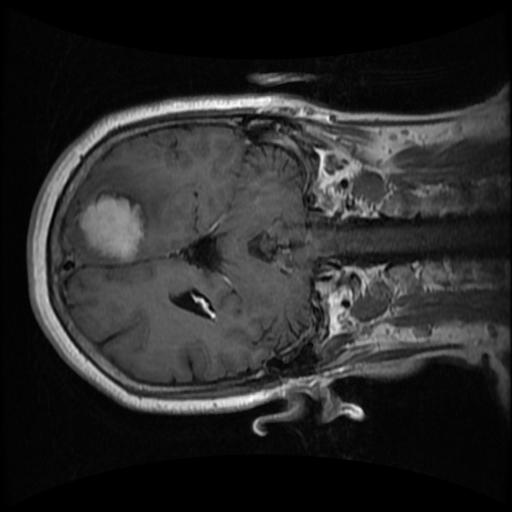meningioma: (78, 192, 147, 263)
